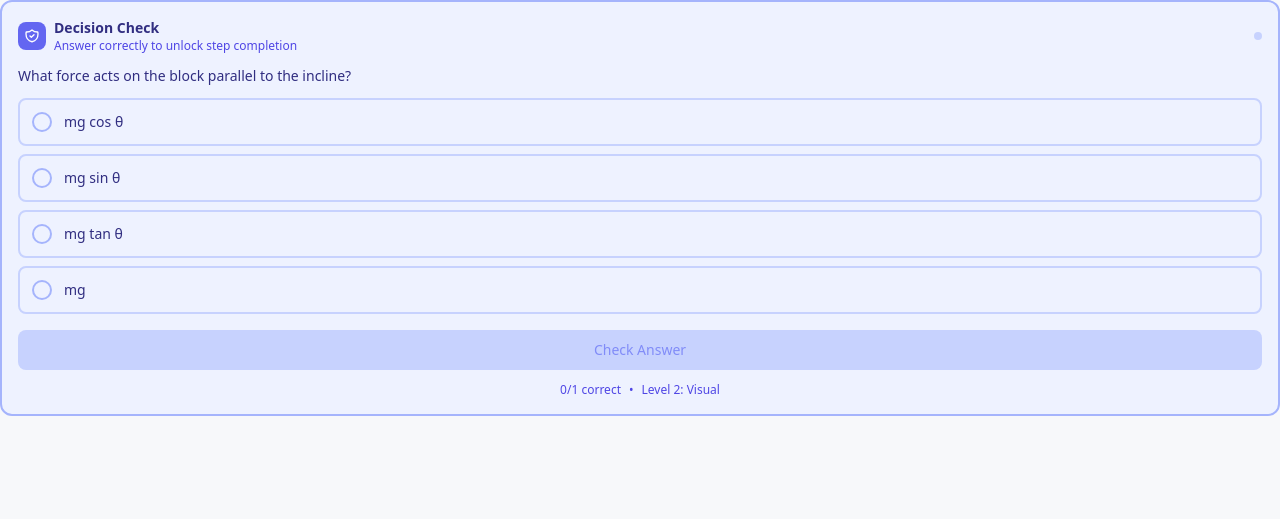
Test case: DecisionGate › Feedback Display › resets state when Try Again is clicked
Submit wrong answer
Click the button "mg cos θ": click(94, 122) [18,98,1262,146]
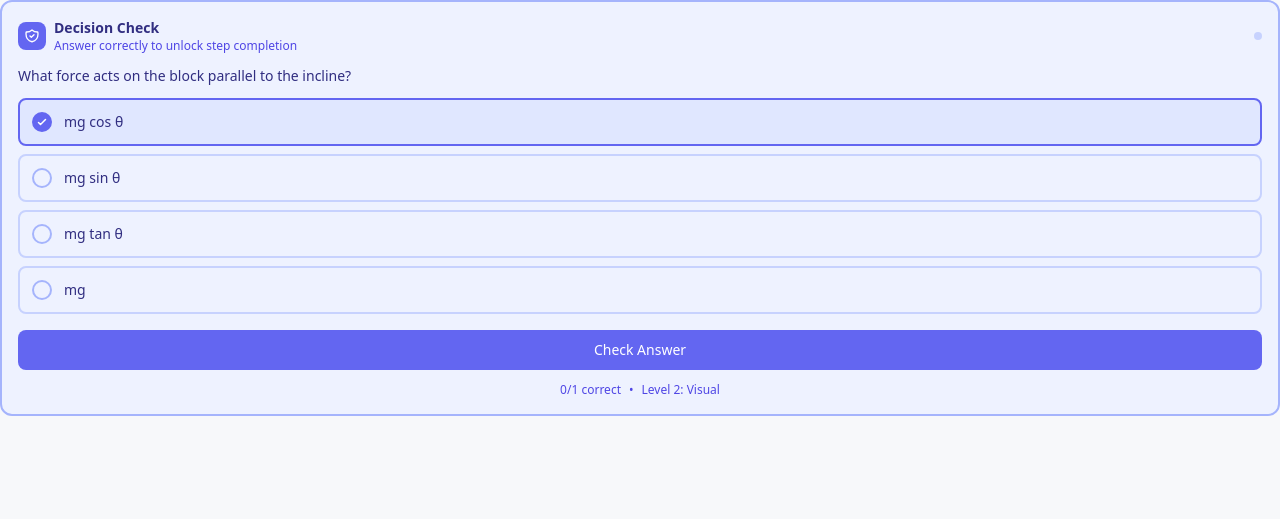
Click the button "Check Answer": click(640, 350) [18,330,1262,370]
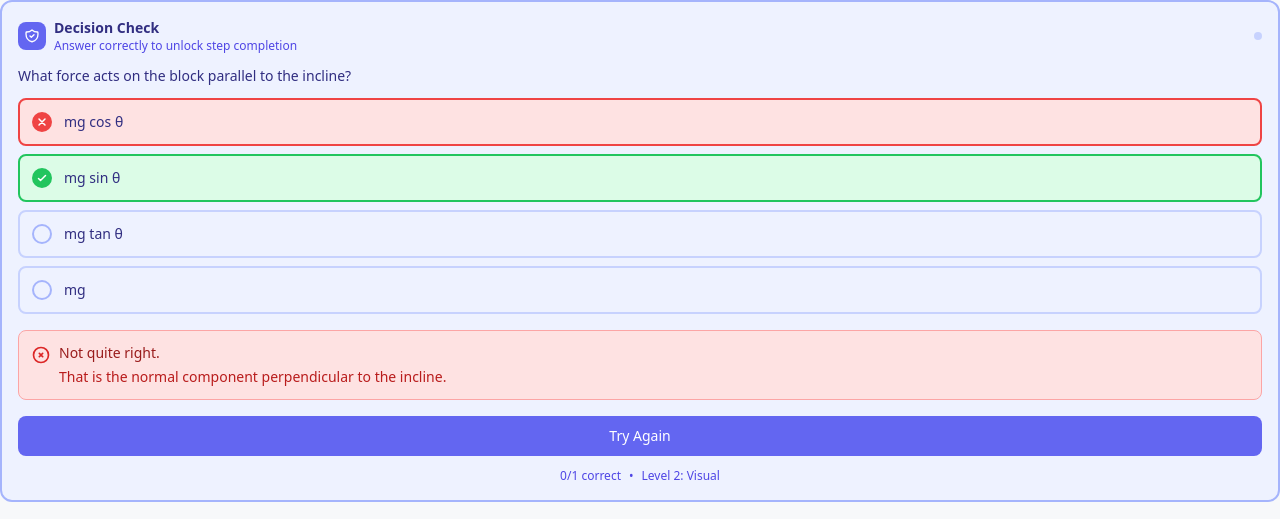
Click Try Again
Click the button "Try Again": click(640, 436) [18,416,1262,456]
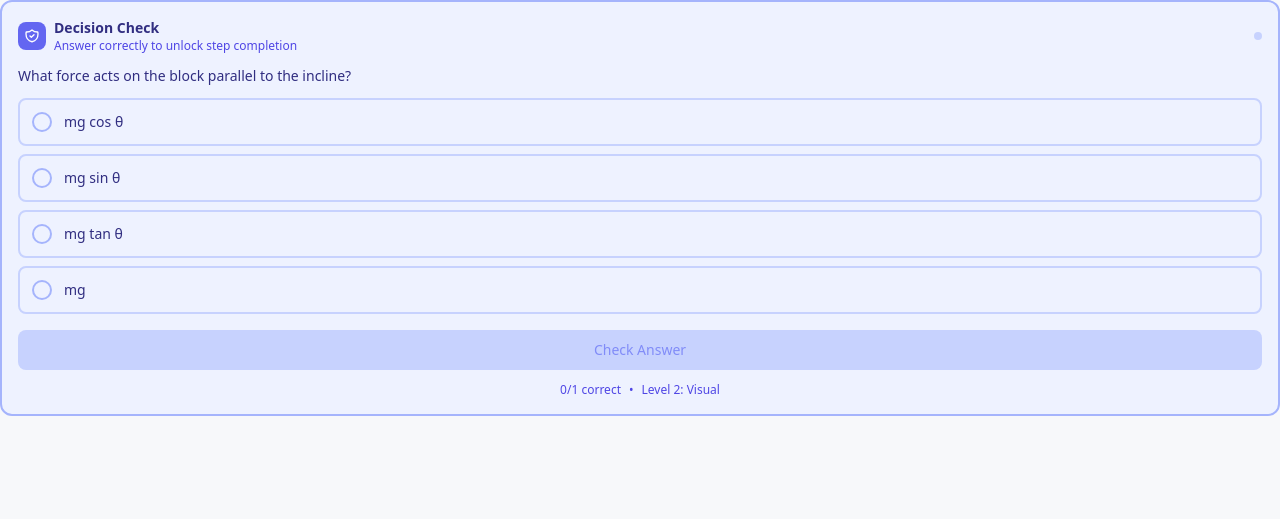
Expected: the button "Check Answer" is shown, [18,330,1262,370]
Expected: the text "Not quite right." is gone
